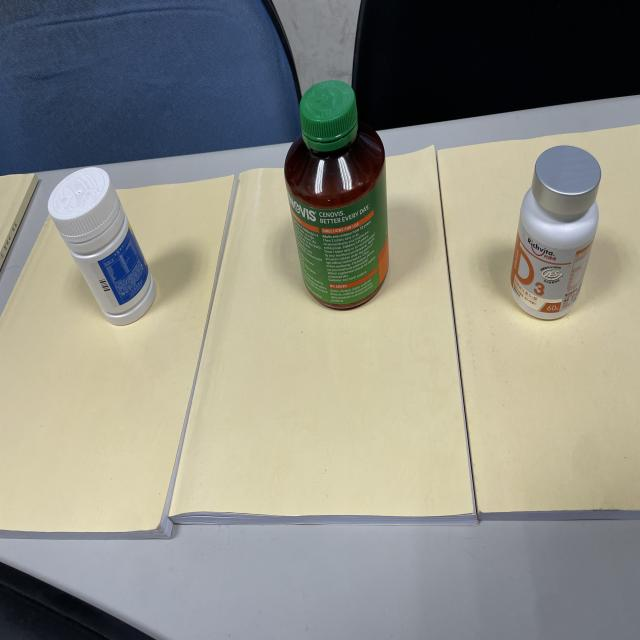Medicine-Jar: (268, 93, 403, 313), (35, 173, 170, 334), (499, 152, 605, 336)
